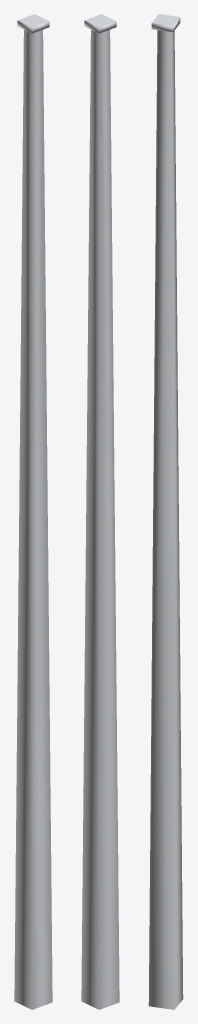
Rendered from flag-pole-8m-cbj_LOD02.gltf.
The picture shows the model from 3 angles, left to right: view 1: azimuth 30°, elevation 25°; view 2: azimuth 210°, elevation 25°; view 3: azimuth 330°, elevation 25°; orthographic projection.
Parts seen in each view (by area): view 1: Cylinder03; view 2: Cylinder03; view 3: Cylinder03.
Boxes of the visible parts, <box> form: Cylinder03: <box>14,14,52,1009</box>; Cylinder03: <box>81,14,119,1009</box>; Cylinder03: <box>148,14,183,1009</box>.
Size of the model in its own units: 0.2369 by 8.05 by 0.2369.
